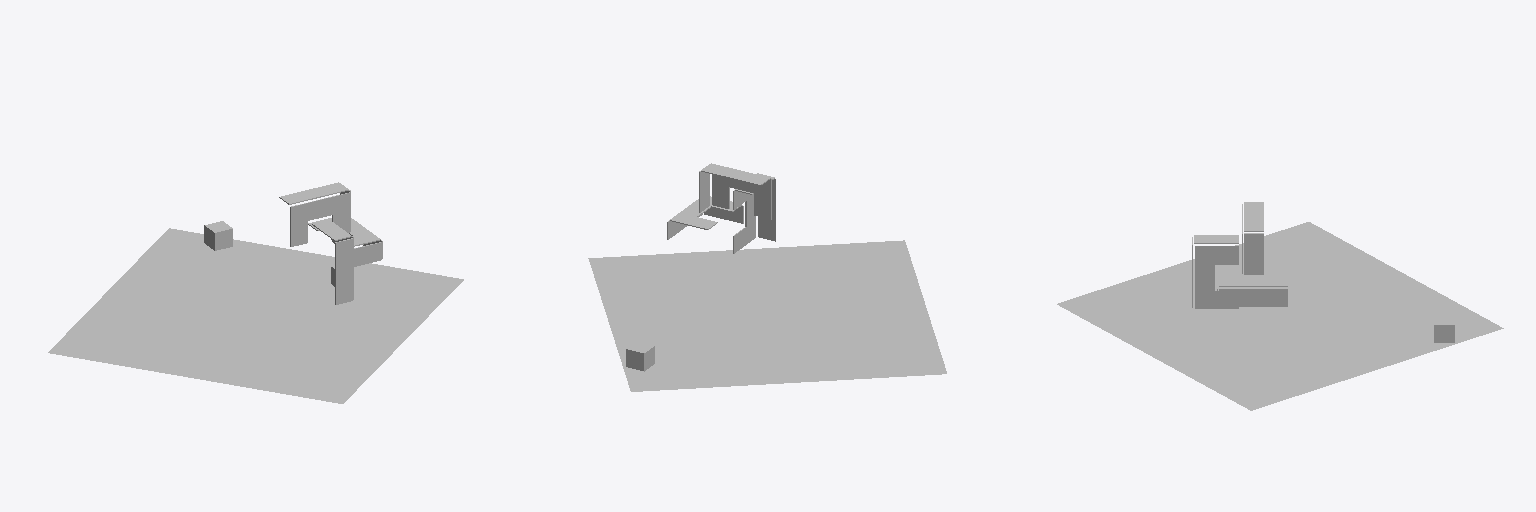
The model's file is hackspace_raw.obj.
The picture shows the model from 3 angles: view 1: azimuth 30°, elevation 25°; view 2: azimuth 150°, elevation 25°; view 3: azimuth 270°, elevation 25°; orthographic projection.
Visible parts, largest first — view 1: floor_Plane.011, cm_Cube.010, bl_Cube.008, test_Cube.016, cl_Cube.011; view 2: floor_Plane.011, cm_Cube.010, bm_Cube.007, am_Cube.013, test_Cube.016, cl_Cube.011, bl_Cube.008; view 3: floor_Plane.011, bm_Cube.007, al_Cube.014, am_Cube.013, cs_Cube.012, cl_Cube.011, test_Cube.016.
Boxes of the visible parts, <box> form: floor_Plane.011: <box>48,228,463,403</box>; cm_Cube.010: <box>290,192,349,246</box>; bl_Cube.008: <box>335,238,352,304</box>; test_Cube.016: <box>204,221,232,250</box>; cl_Cube.011: <box>279,182,348,204</box>; floor_Plane.011: <box>588,240,946,391</box>; cm_Cube.010: <box>712,174,771,219</box>; bm_Cube.007: <box>733,189,755,253</box>; am_Cube.013: <box>670,196,741,229</box>; test_Cube.016: <box>626,341,654,371</box>; cl_Cube.011: <box>701,163,770,185</box>; bl_Cube.008: <box>758,179,775,241</box>; floor_Plane.011: <box>1057,222,1503,410</box>; bm_Cube.007: <box>1195,246,1238,308</box>; al_Cube.014: <box>1219,289,1287,306</box>; am_Cube.013: <box>1219,267,1287,286</box>; cs_Cube.012: <box>1244,233,1263,274</box>; cl_Cube.011: <box>1244,202,1263,231</box>; test_Cube.016: <box>1434,316,1454,342</box>.
Bounding box in the file's own units: 36.65 × 11.06 × 36.65.